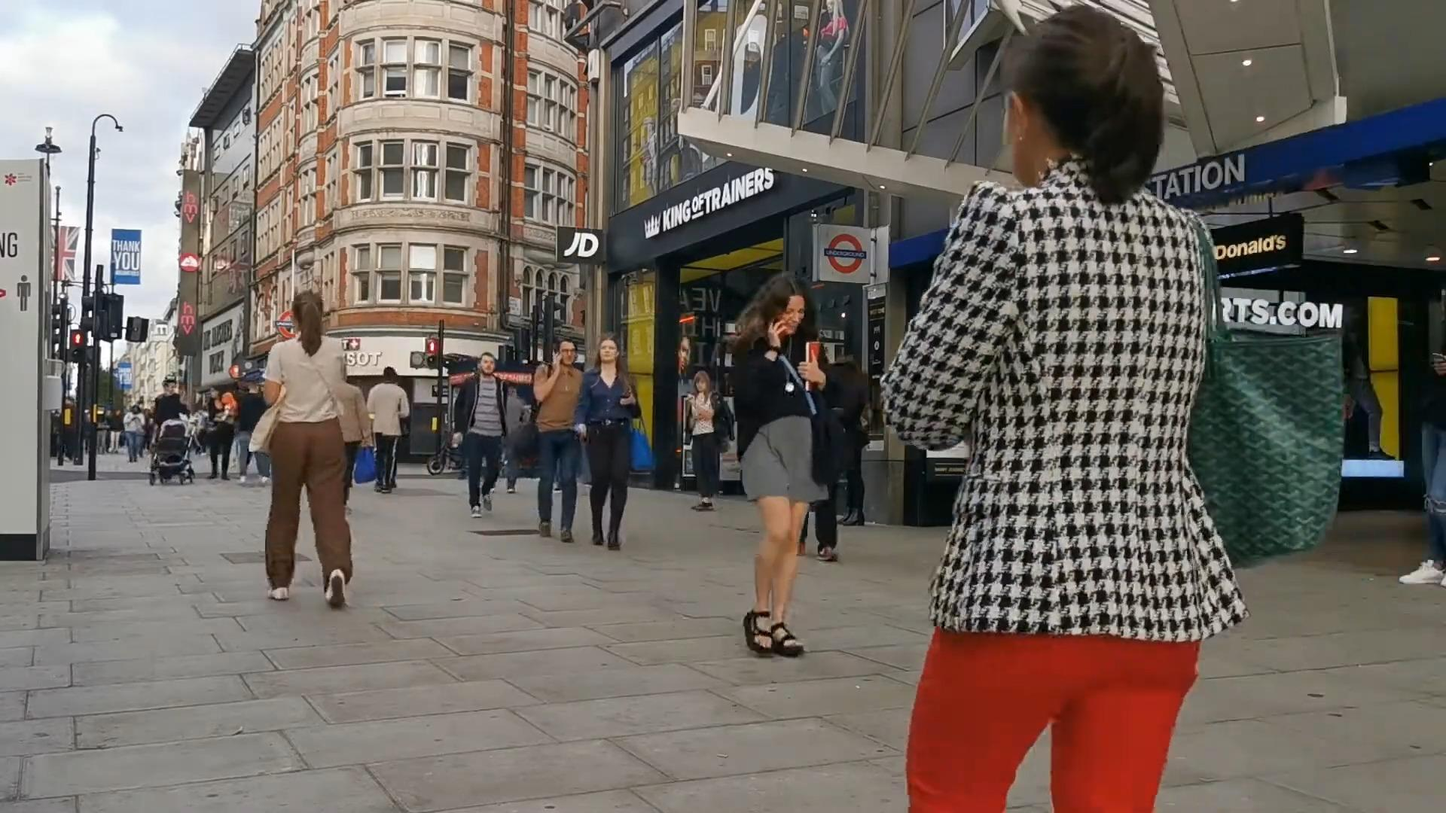no-helmet: (1008, 5, 1165, 213), (757, 272, 817, 338), (292, 290, 323, 357), (555, 337, 578, 368), (597, 337, 621, 365), (479, 352, 496, 377), (693, 371, 710, 394)
